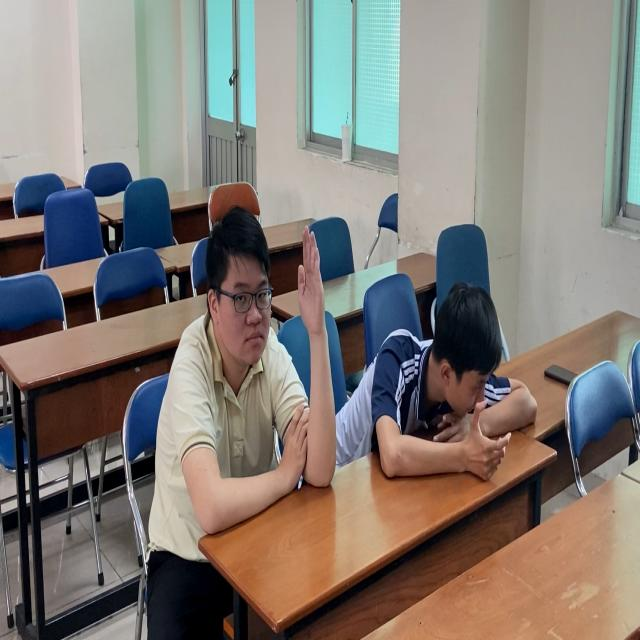raise_hand: (145, 199, 334, 557)
sleep: (336, 274, 544, 496)
